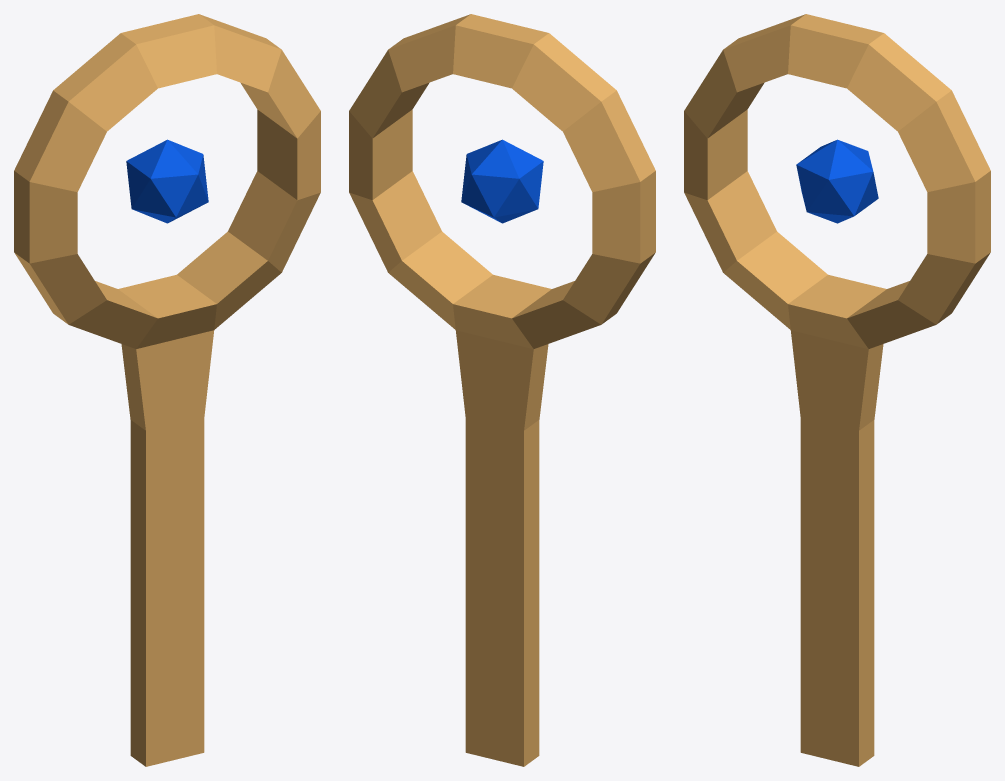
File: B_Base_Tome_Model.fbx
The picture shows the model from 3 angles, left to right: view 1: azimuth 30°, elevation 25°; view 2: azimuth 150°, elevation 25°; view 3: azimuth 330°, elevation 25°; orthographic projection.
Visible parts, largest first — view 1: Torus.003, Icosphere; view 2: Torus.003, Icosphere; view 3: Torus.003, Icosphere.
Part boxes in pixels (x1,y1,x2,y2): Torus.003: (14, 14, 320, 766); Icosphere: (126, 139, 208, 223); Torus.003: (349, 14, 655, 766); Icosphere: (461, 139, 543, 223); Torus.003: (684, 14, 990, 766); Icosphere: (796, 139, 878, 223).
Bounding box in the file's own units: 10.88 × 25.88 × 2.6.
